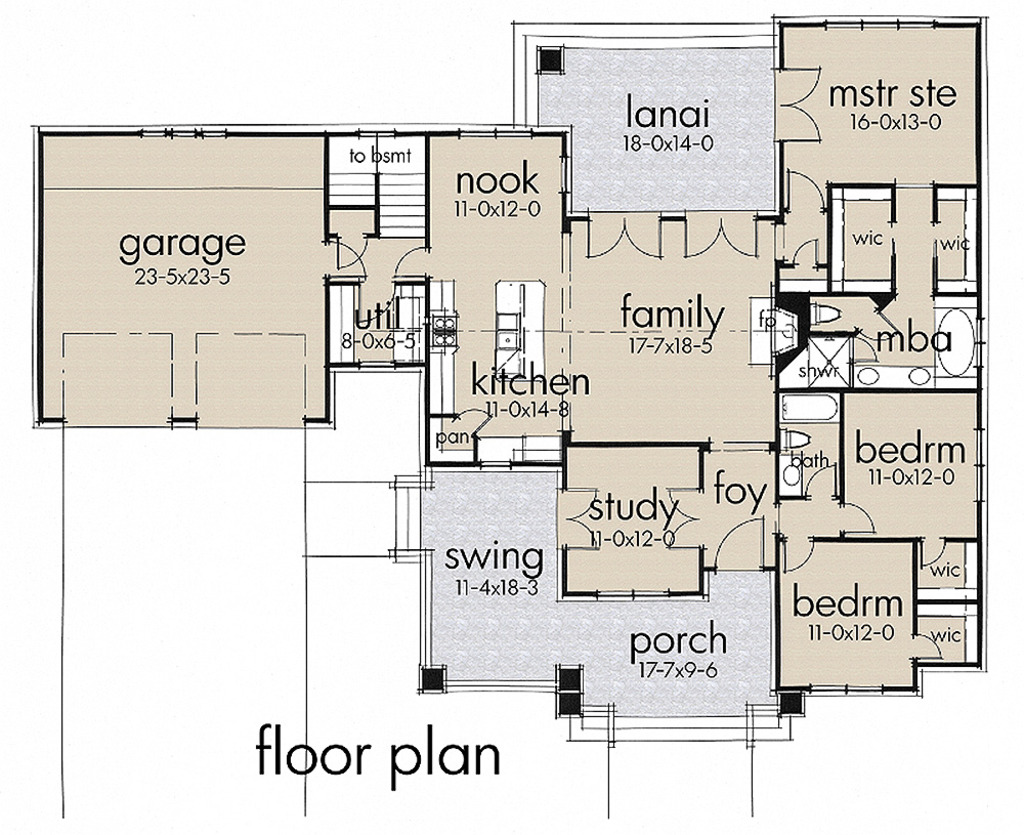door: (676, 203, 765, 263), (773, 63, 830, 142), (586, 206, 658, 264), (558, 486, 609, 555), (773, 530, 828, 593), (707, 513, 763, 573), (667, 489, 716, 556), (783, 165, 828, 216), (396, 241, 445, 284), (781, 232, 830, 271), (838, 499, 885, 539), (908, 532, 948, 575), (454, 402, 493, 445), (904, 626, 948, 662), (325, 239, 365, 278), (360, 281, 394, 325), (802, 462, 841, 500)
kitchen_bar: (486, 263, 548, 394)
large_sink: (809, 293, 851, 330), (778, 425, 816, 454)
small_sink: (855, 364, 942, 391), (778, 460, 809, 504)
stairs: (333, 133, 426, 242)
tub: (938, 304, 989, 386), (774, 385, 845, 419)
